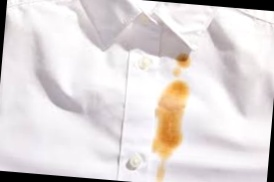coffee: (158, 82, 186, 150), (178, 53, 191, 68)
